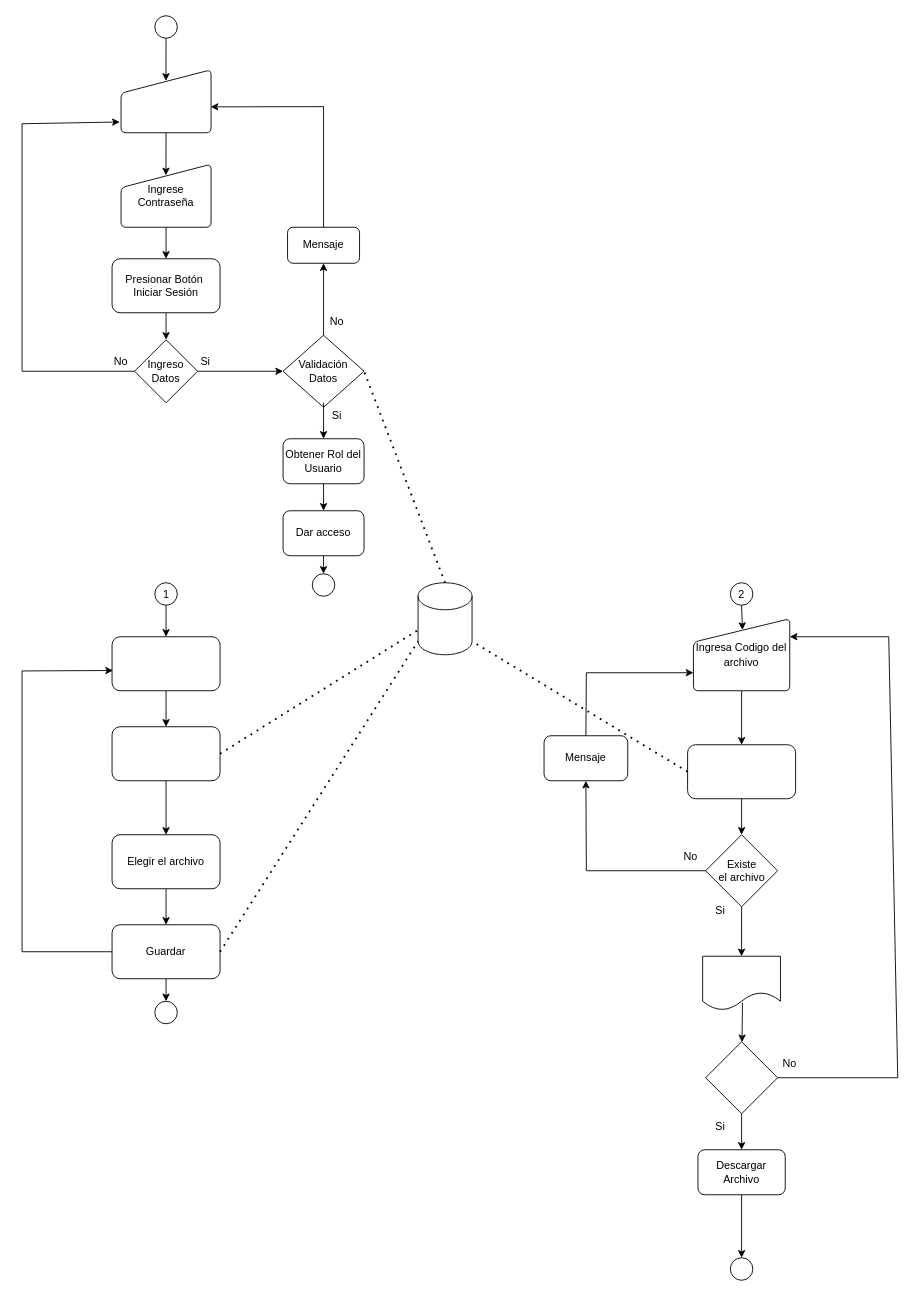
The diagram is 921 pixels wide and 1296 high, and some of its shapes have lost their labels. The shapes that lost their labels are listed below. From the top down, each one's centre as x and y in pixels, then its label:
At [165,101]: "Ingrese Usuario".
At [444,618]: "BD".
At [165,663]: "Mostrar Formularios".
At [165,753]: "Obtener categoría".
At [741,771]: "Consulta del código".
At [741,982]: "Mostrar archivo".
At [741,1077]: "Descargar".
